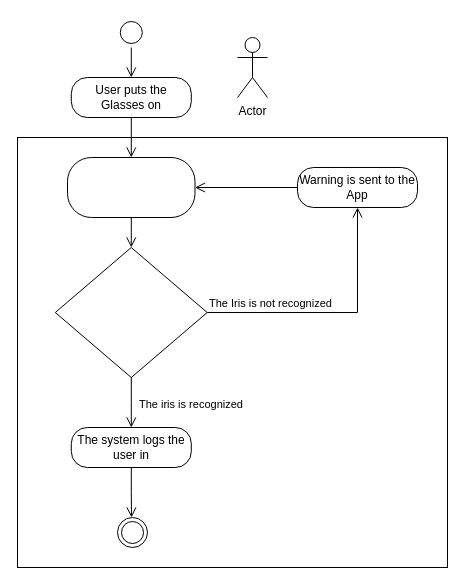
The diagram is 465 pixels wide and 585 high, and some of its shapes have lost their labels. The centre of each missing label's shape, as x and y in pixels:
"The scanned iris is compared to the irises in the DB" goes at pixel 130 312.
"The system scan the Iris of the user with the Iris Scanner" goes at pixel 130 187.
